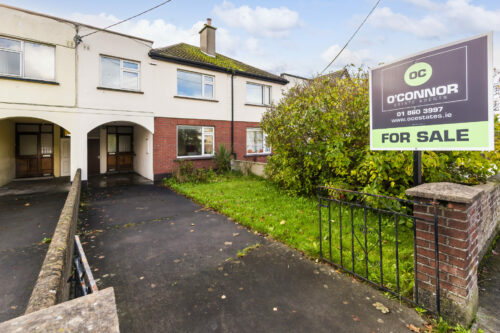property sign: (357, 29, 499, 165)
